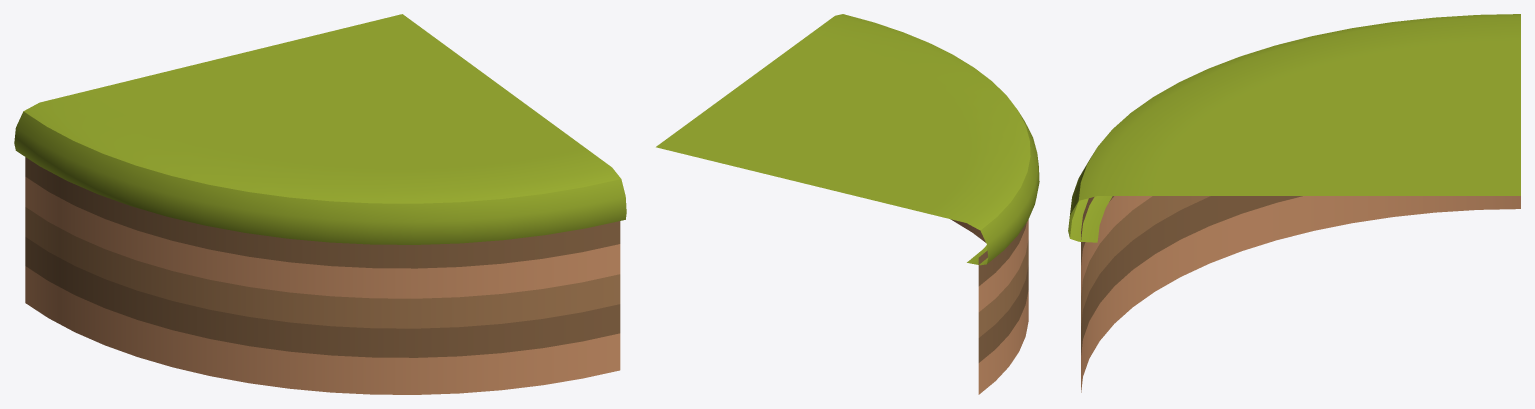
The model's file is platform_grass_corner_round2_tall.gltf.
3 renders of one model, left to right at view 1: azimuth 30°, elevation 25°; view 2: azimuth 150°, elevation 25°; view 3: azimuth 270°, elevation 25°, orthographic. The views are drawn at different scales.
Parts seen in each view (by area): view 1: Cube_Grass_Corner_Round2_Tall; view 2: Cube_Grass_Corner_Round2_Tall; view 3: Cube_Grass_Corner_Round2_Tall.
Part boxes in pixels (left/top/right/bottom): Cube_Grass_Corner_Round2_Tall: left=14, top=14, right=626, bottom=394; Cube_Grass_Corner_Round2_Tall: left=656, top=14, right=1039, bottom=394; Cube_Grass_Corner_Round2_Tall: left=1068, top=14, right=1520, bottom=392.
Bounding box in the file's own units: 4.12 × 2 × 4.12.
